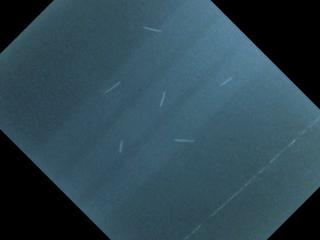crack: (184, 116, 320, 240)
scratch: (140, 21, 166, 39), (154, 86, 172, 112), (213, 71, 236, 91), (116, 137, 127, 156), (105, 81, 121, 94), (173, 137, 197, 143)
